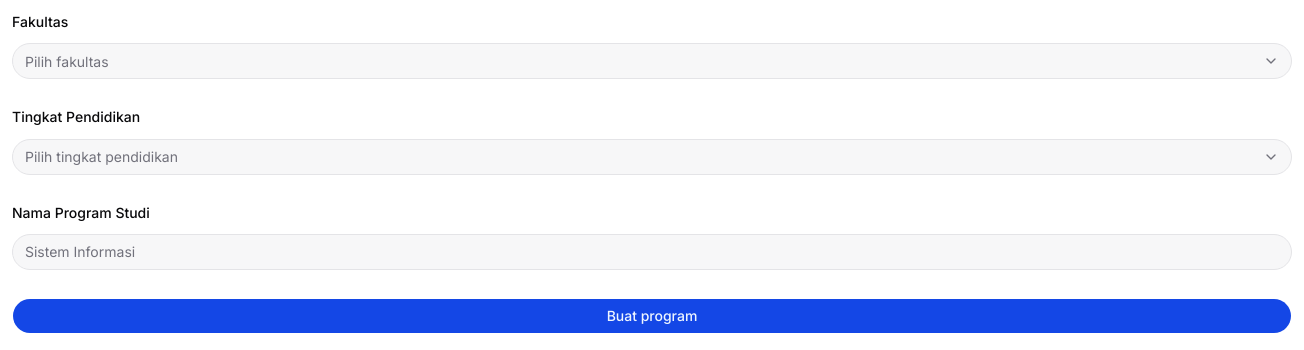
Test: ProgramForm › Interactions › allows selecting degree level
This screenshot has width=1304, height=350.
Click the dropdown labelled "Pilih tingkat pendidikan". click: (101, 156)
box: [12,138,1292,174]
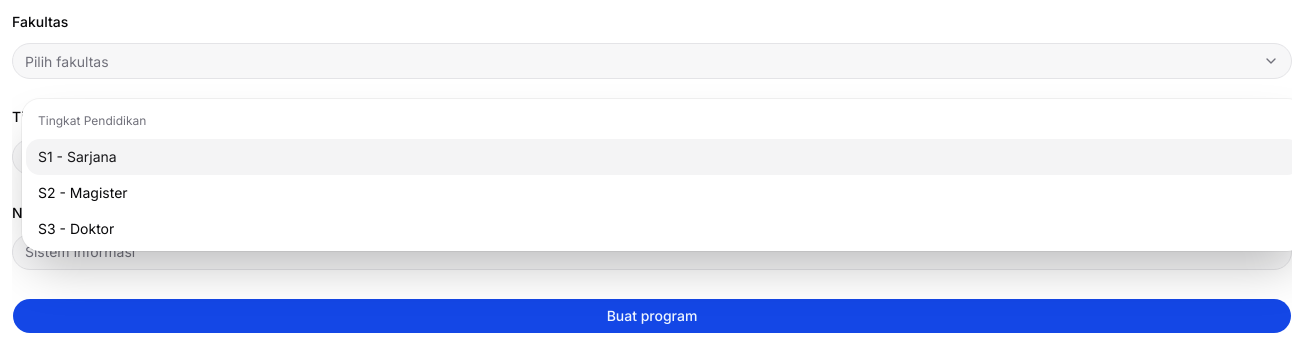
Click the option "S2 - Magister". click: (83, 192)
box: [38,184,128,200]
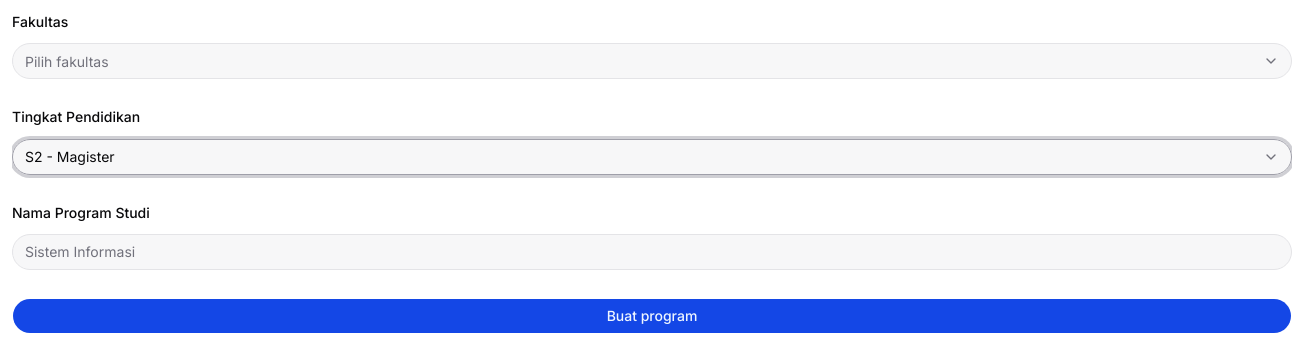
Now the text "S2 - Magister" is shown, box [25,146,115,166]
